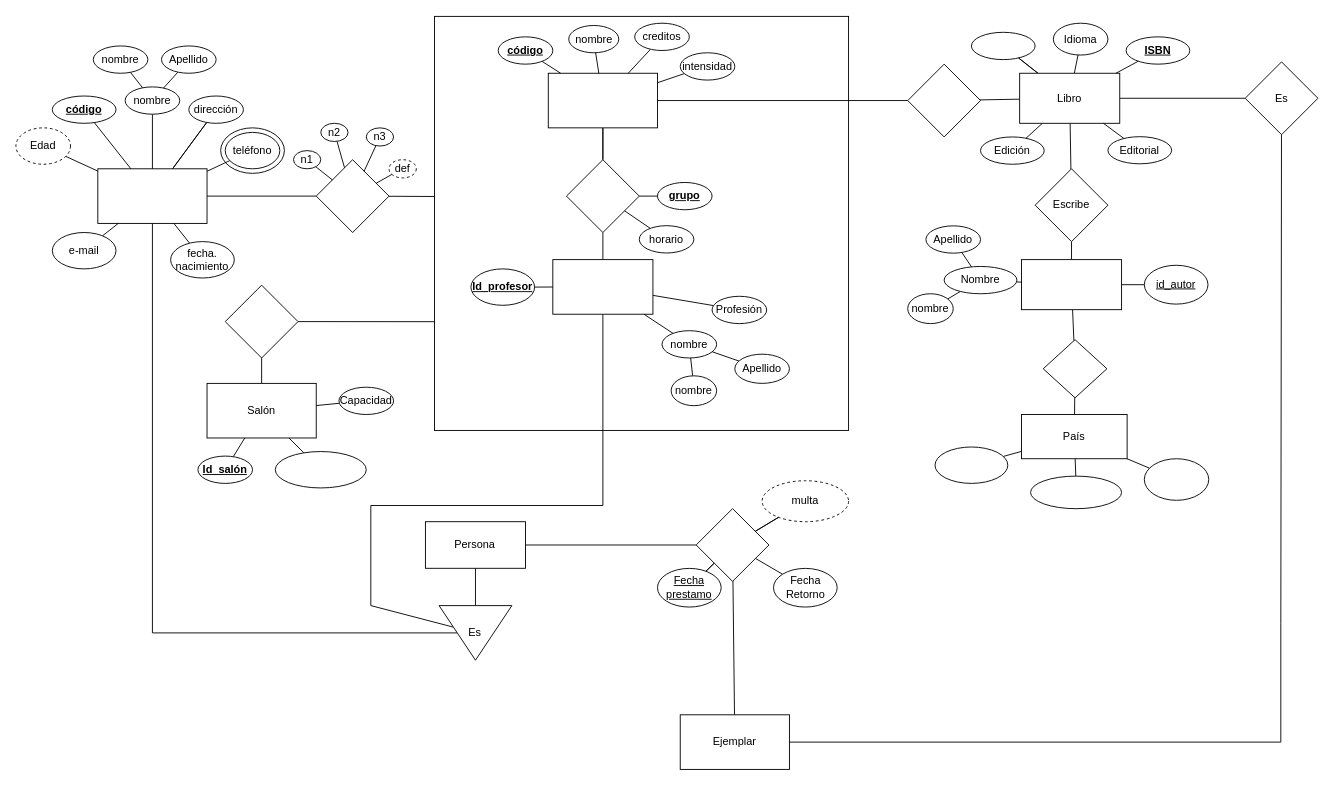
The diagram is 1334 pixels wide and 785 high, and some of its shapes have lost their labels. The box of each missing label's shape, as (x1, y1, x2, y2) in pixels:
Asignatura: (547, 72, 657, 128)
Asocia: (224, 284, 298, 358)
Autor: (1021, 259, 1122, 310)
Cursa: (315, 159, 389, 233)
Estudiante: (97, 168, 207, 223)
id_pais: (1143, 458, 1209, 500)
Imparte: (566, 159, 639, 233)
liga: (1042, 339, 1107, 398)
N_computadores: (274, 451, 366, 488)
nacionalidad: (1030, 475, 1122, 509)
num_pais: (934, 446, 1008, 483)
Profesor: (552, 259, 653, 314)
Referencia: (907, 63, 981, 137)
Retira: (695, 508, 769, 581)
Título: (971, 31, 1035, 60)
